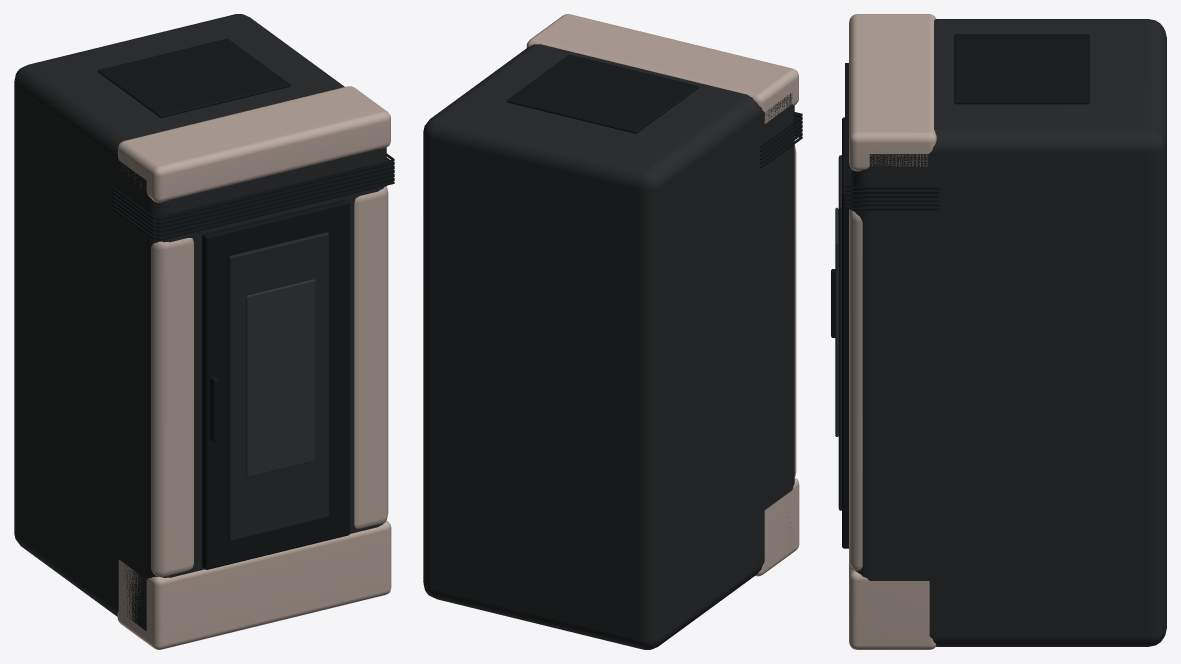
The model's file is nordica-lucia-plus16-tortora.glb.
3 views of the same model, side by side, from view 1: azimuth 30°, elevation 25°; view 2: azimuth 150°, elevation 25°; view 3: azimuth 270°, elevation 25° (orthographic). The views are drawn at different scales.
Visible parts, largest first — view 1: Chassis posteriore, Sportello nero, Rivestimento inferiore, Rivestimento superiore, Cornice vetro, Montante anteriore, Vetro sportello, Montante anteriore.001, Coperchio pellet, Griglia mandata, Griglia mandata.001, Griglia mandata.002 (+4 smaller); view 2: Chassis posteriore, Rivestimento superiore, Coperchio pellet, Rivestimento inferiore, Montante anteriore; view 3: Chassis posteriore, Rivestimento superiore, Coperchio pellet, Rivestimento inferiore, Montante anteriore.001, Sportello nero, Cornice vetro, Vetro sportello, Griglia mandata.
Part boxes in pixels (bbox=[...]): Chassis posteriore: bbox=[14, 14, 386, 630]; Sportello nero: bbox=[202, 199, 349, 569]; Rivestimento inferiore: bbox=[117, 520, 391, 649]; Rivestimento superiore: bbox=[118, 86, 390, 202]; Cornice vetro: bbox=[228, 232, 328, 541]; Montante anteriore: bbox=[151, 238, 193, 577]; Vetro sportello: bbox=[246, 279, 315, 477]; Montante anteriore.001: bbox=[354, 186, 388, 528]; Coperchio pellet: bbox=[97, 38, 290, 117]; Griglia mandata: bbox=[156, 160, 394, 220]; Griglia mandata.001: bbox=[156, 164, 394, 224]; Griglia mandata.002: bbox=[156, 168, 394, 228]; Chassis posteriore: bbox=[423, 44, 794, 649]; Rivestimento superiore: bbox=[526, 14, 798, 123]; Coperchio pellet: bbox=[506, 54, 698, 133]; Rivestimento inferiore: bbox=[755, 478, 799, 576]; Montante anteriore: bbox=[794, 145, 796, 476]; Chassis posteriore: bbox=[851, 19, 1166, 646]; Rivestimento superiore: bbox=[849, 14, 936, 171]; Coperchio pellet: bbox=[954, 34, 1089, 104]; Rivestimento inferiore: bbox=[849, 561, 936, 649]; Montante anteriore.001: bbox=[849, 209, 862, 571]; Sportello nero: bbox=[842, 117, 848, 548]; Cornice vetro: bbox=[838, 155, 841, 510]; Vetro sportello: bbox=[835, 207, 838, 436]; Griglia mandata: bbox=[845, 63, 851, 187].
Size of the model in its own units: 0.564 by 1.09 by 0.635.
